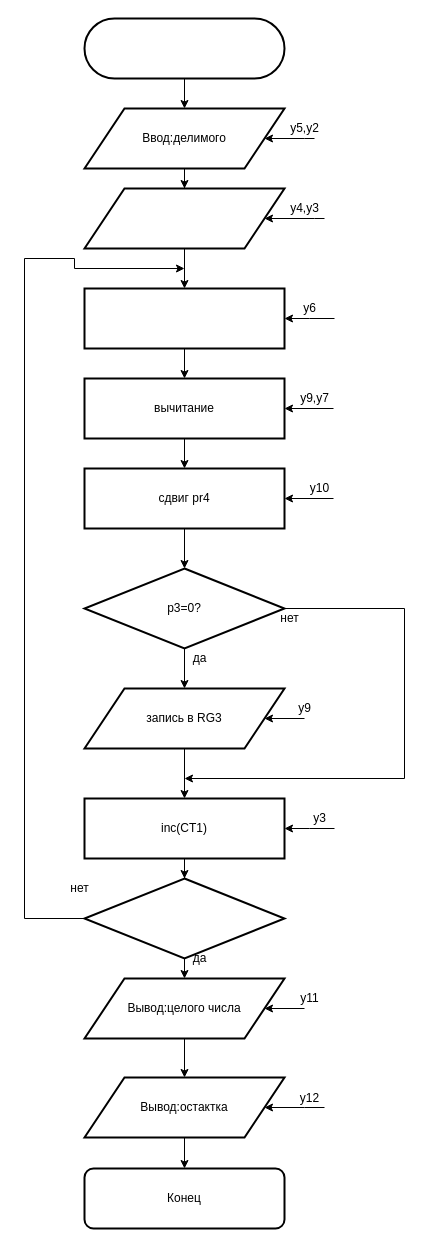
This 430x1246 diagram has some shape labels left out. The box of each missing label's shape, as (x1, y1, x2, y2) in pixels:
p2=1?: (83, 877, 285, 959)
Ввод:делителя: (83, 187, 285, 249)
Начало: (83, 17, 285, 79)
сдвиг pr2: (83, 287, 285, 349)
